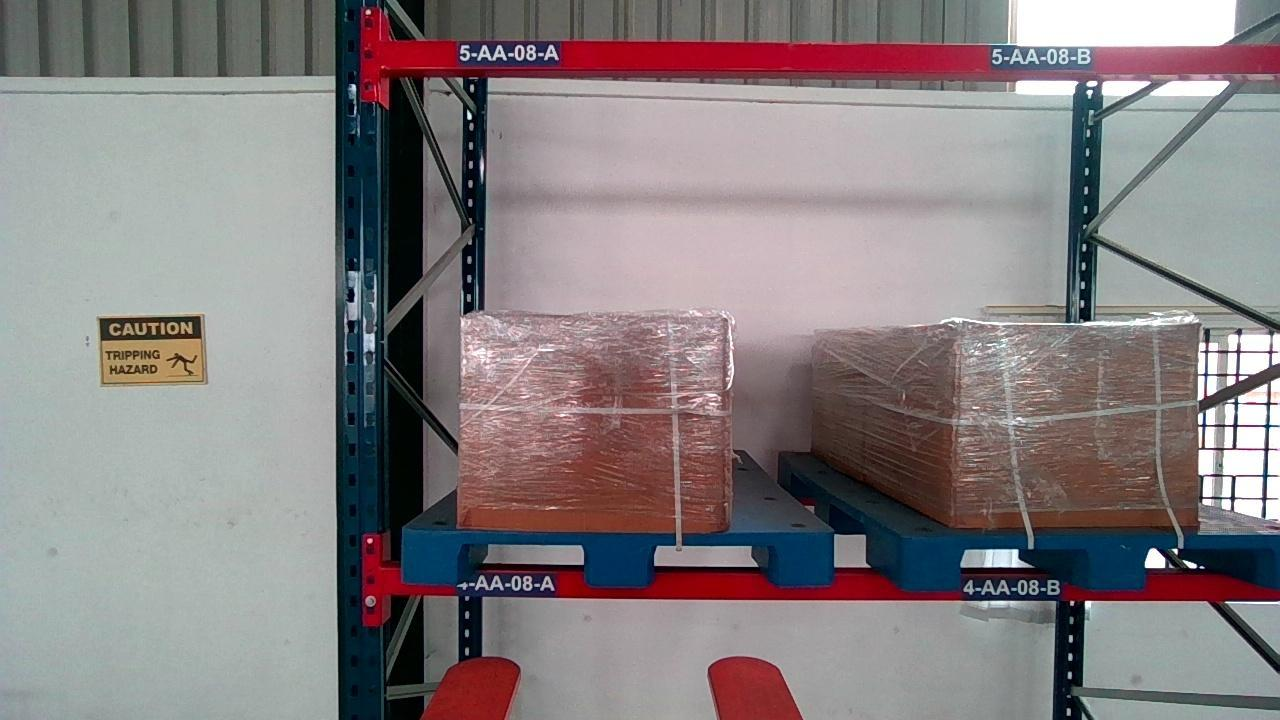h_rack: (387, 39, 1276, 73), (383, 568, 1278, 599)
small_pallet: (403, 529, 833, 585), (907, 534, 1279, 586)
